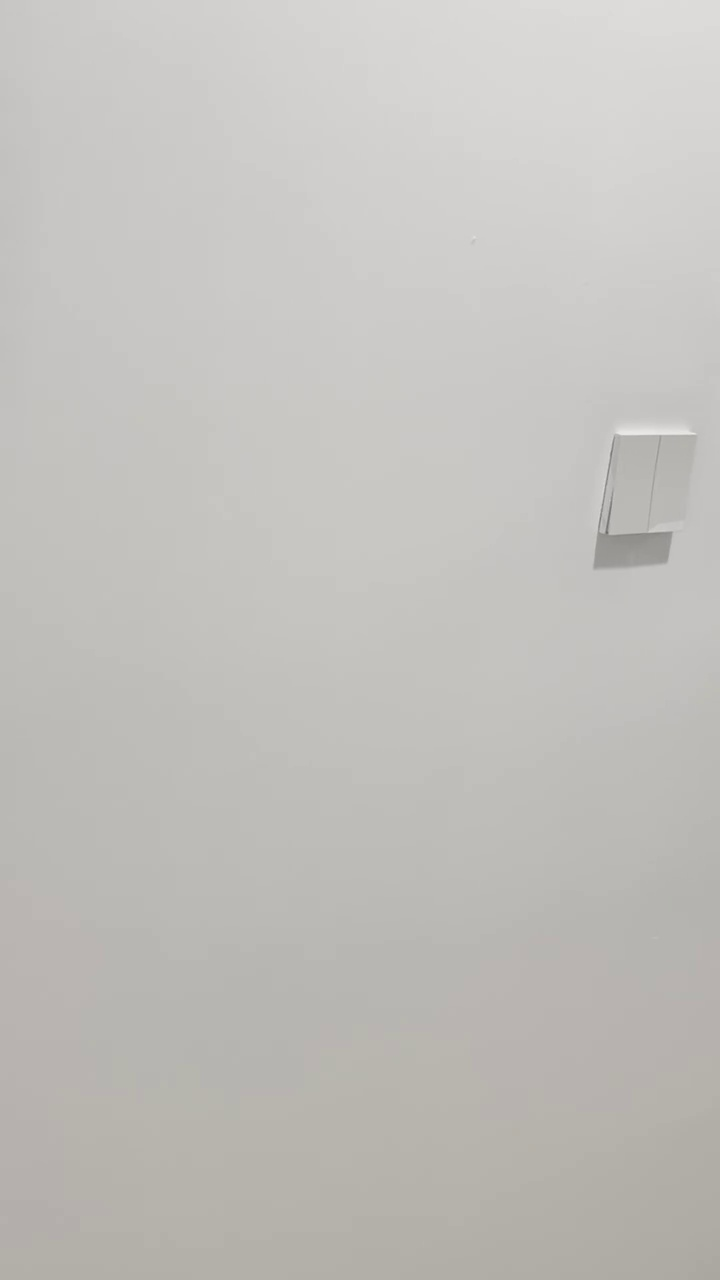button: (597, 426, 697, 536)
